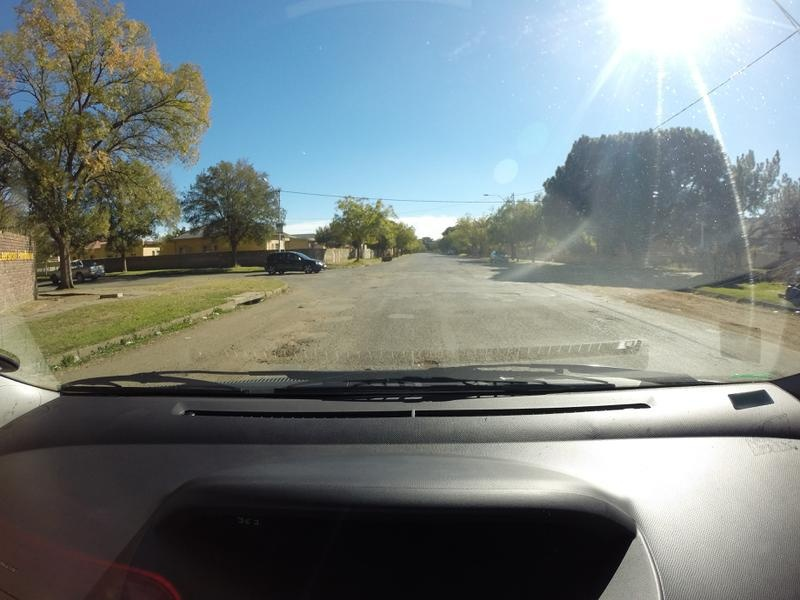pothole: (253, 335, 335, 369), (586, 303, 629, 324), (411, 344, 444, 369)
